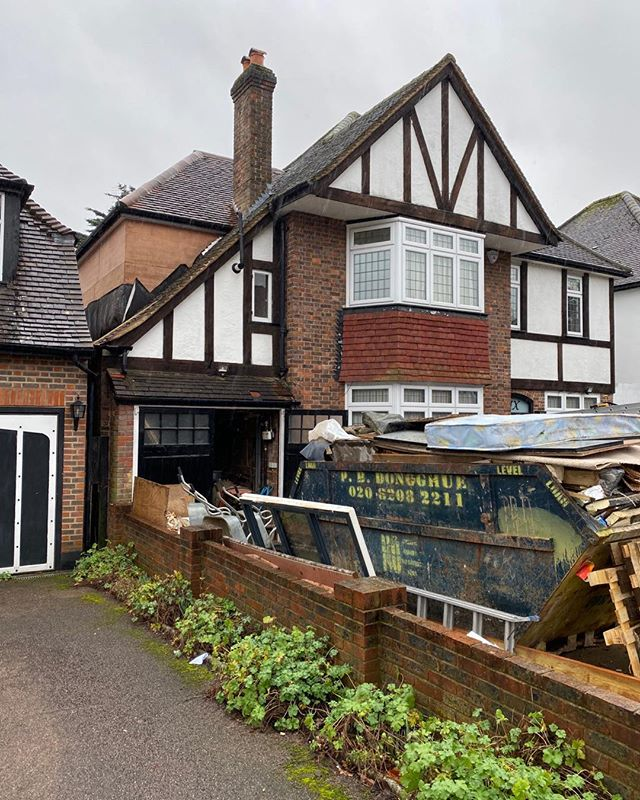building: (45, 53, 620, 566)
dumpster: (311, 409, 640, 652)
sky: (67, 1, 640, 176)
trash: (357, 405, 640, 526)
